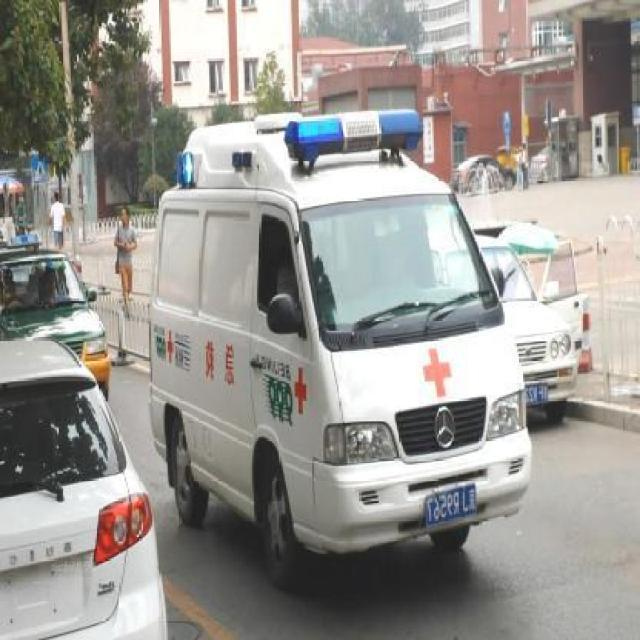emergency: (146, 107, 534, 588)
